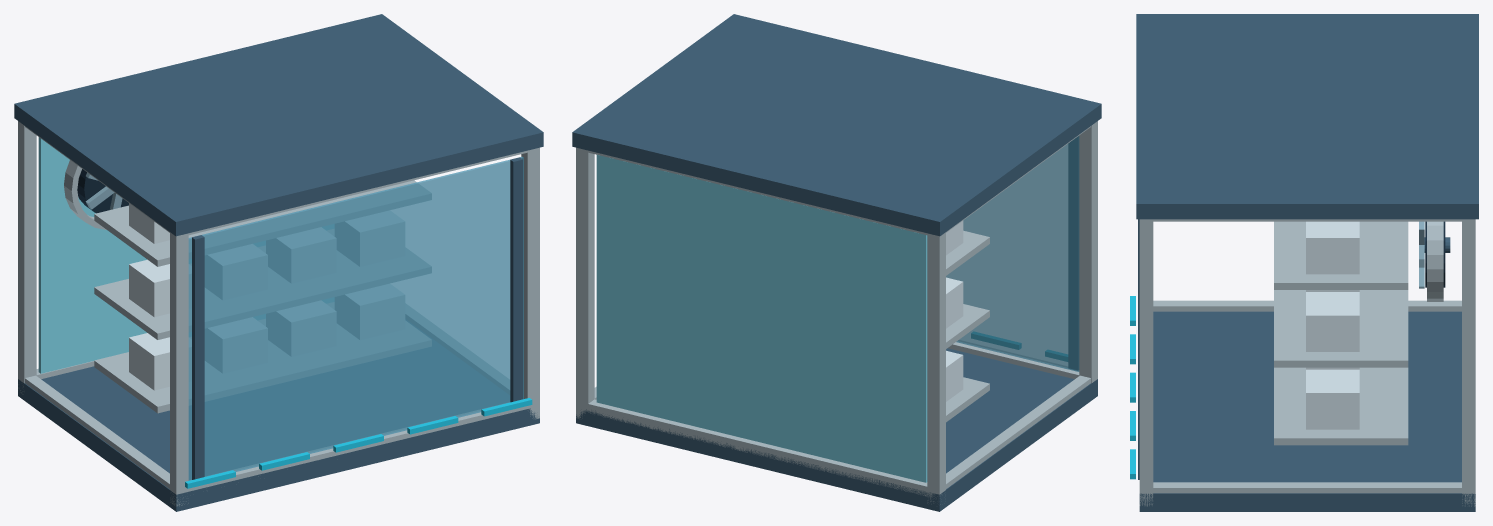
The model's file is 15_L69_TransparentColdStorageChamber.fbx.
The picture shows the model from 3 angles, left to right: view 1: azimuth 30°, elevation 25°; view 2: azimuth 150°, elevation 25°; view 3: azimuth 270°, elevation 25°; orthographic projection. The views are drawn at different scales.
Visible parts, largest first — view 1: TransparentColdStorageChamber; view 2: TransparentColdStorageChamber; view 3: TransparentColdStorageChamber.
Boxes of the visible parts, x1,y1,x2,y2 form: TransparentColdStorageChamber: [14, 14, 543, 511]; TransparentColdStorageChamber: [572, 14, 1101, 511]; TransparentColdStorageChamber: [1130, 14, 1478, 511].
Size of the model in its own units: 268 by 203 by 208.
